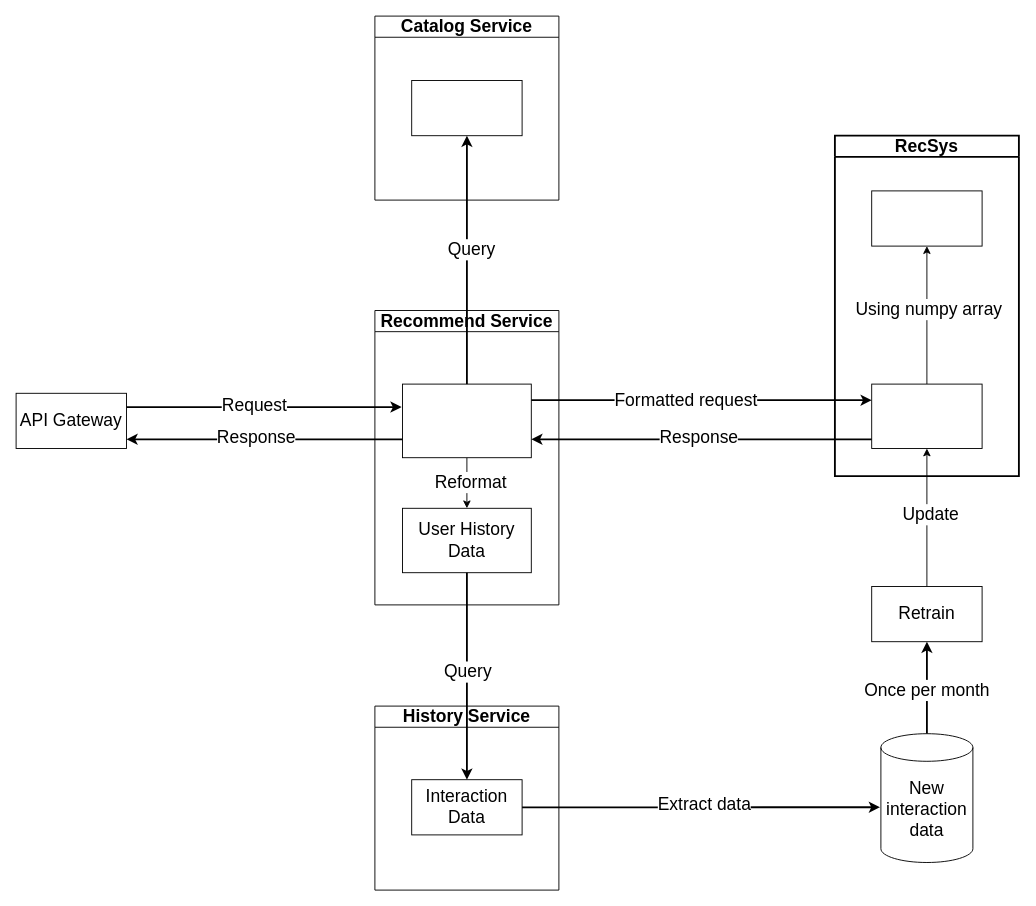
Image size: 1036x906. Some labels were removed from this diagram. Each missing label, with the centre of its shape:
Model: the point at 926,415
Recommend Request Formatting: the point at 466,420
Track Data: the point at 466,108
Track Features: the point at 926,218
